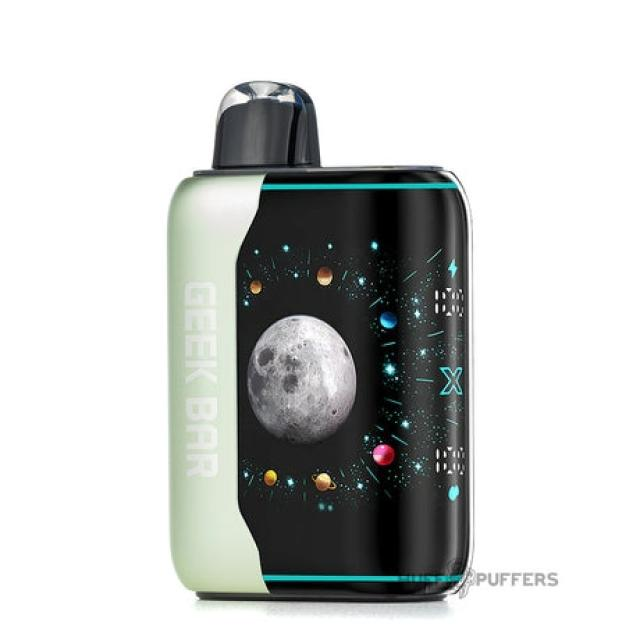Hazard: (166, 78, 474, 602)
